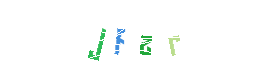F: (79, 0, 159, 80)
J: (78, 0, 158, 80)
R: (129, 0, 209, 80)
Z: (100, 0, 180, 80)
